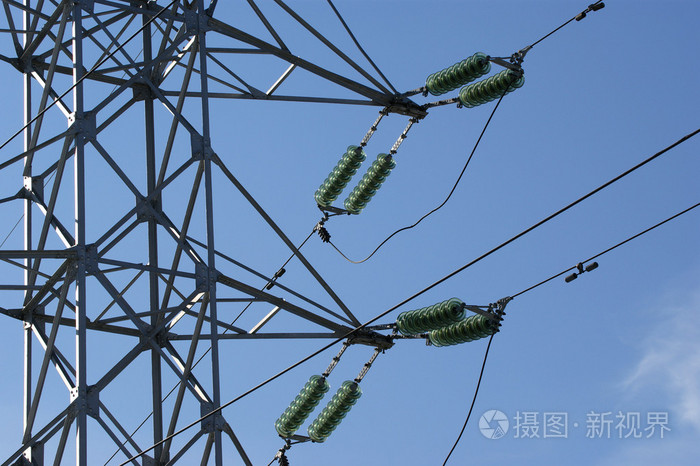insulator: (273, 373, 329, 436), (307, 380, 361, 442), (347, 153, 398, 214), (310, 146, 362, 204), (423, 52, 490, 95), (427, 312, 501, 349), (460, 68, 528, 106), (397, 297, 465, 334)
